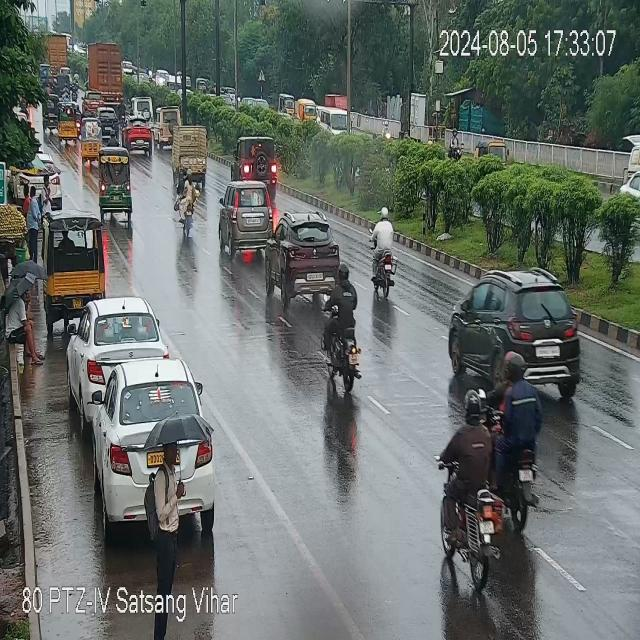2-wheelers: (444, 400, 496, 586), (496, 369, 540, 530), (320, 254, 364, 392), (370, 201, 392, 297), (173, 170, 204, 228)
auto: (46, 212, 106, 293), (98, 152, 132, 218), (171, 132, 207, 171), (473, 138, 509, 170), (78, 115, 102, 155), (61, 98, 83, 137)
car: (102, 360, 218, 528), (458, 278, 576, 388), (76, 299, 161, 406), (270, 215, 337, 297), (220, 186, 274, 242), (233, 136, 285, 186), (154, 107, 187, 143), (124, 115, 150, 151), (617, 168, 640, 206), (320, 108, 355, 130)
pedestrian: (153, 438, 188, 636), (1, 276, 40, 372), (27, 184, 40, 262), (40, 177, 53, 222)
truck: (90, 41, 122, 106), (44, 34, 74, 76)
